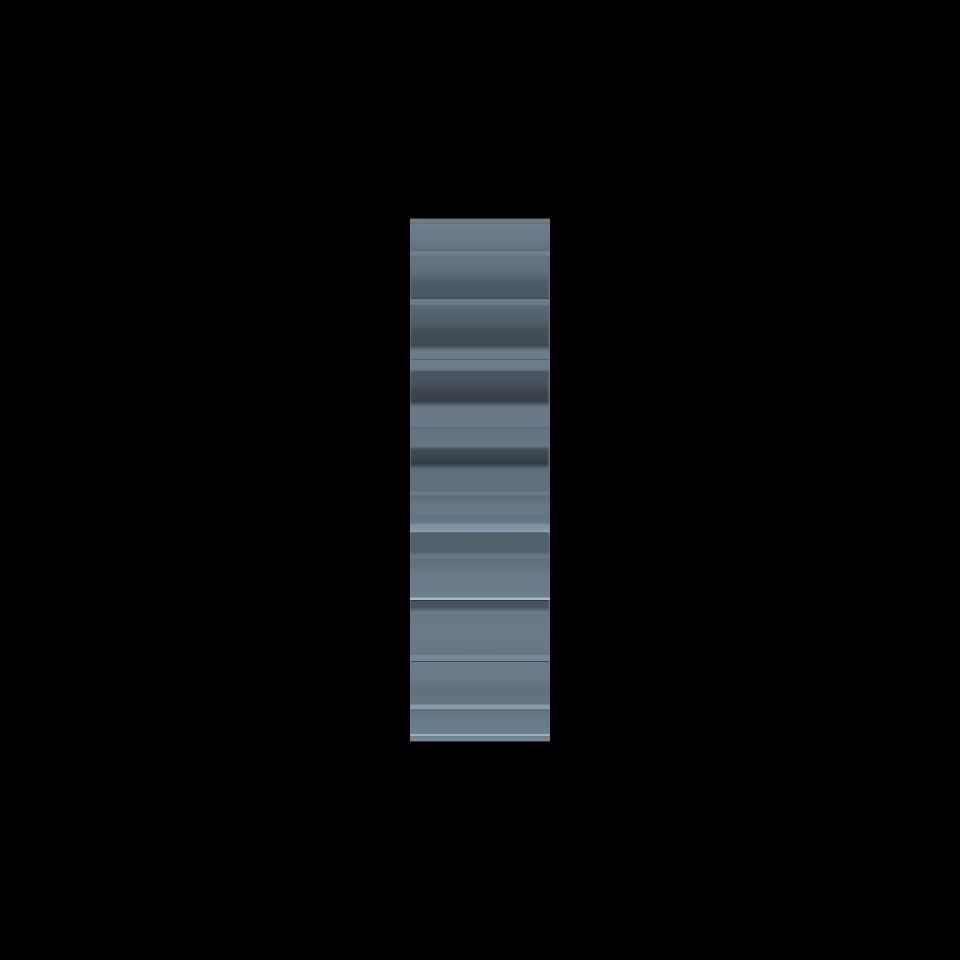Straight: (410, 219, 550, 741)
